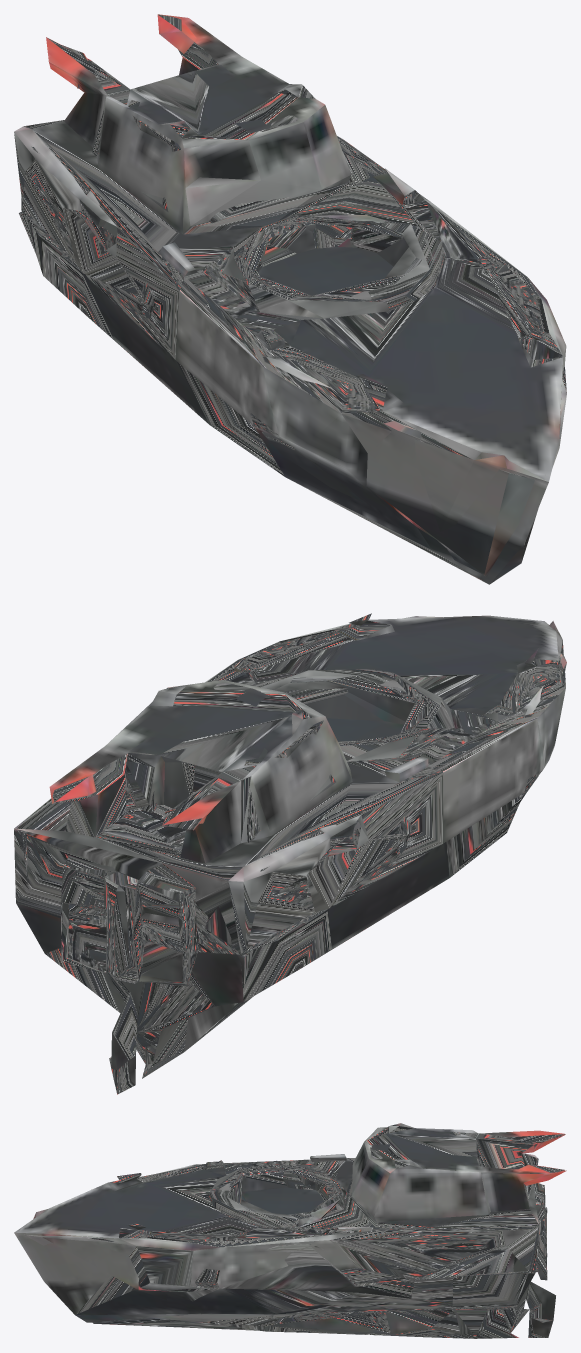
The model's file is hull-s3.glb.
3 views of the same model, one above another, from view 1: azimuth 30°, elevation 25°; view 2: azimuth 150°, elevation 25°; view 3: azimuth 270°, elevation 25° (orthographic). The views are drawn at different scales.
Bounding box in the file's own units: 0.4329 × 0.4504 × 1.16.
Materials: 1 (1 with a texture image).
